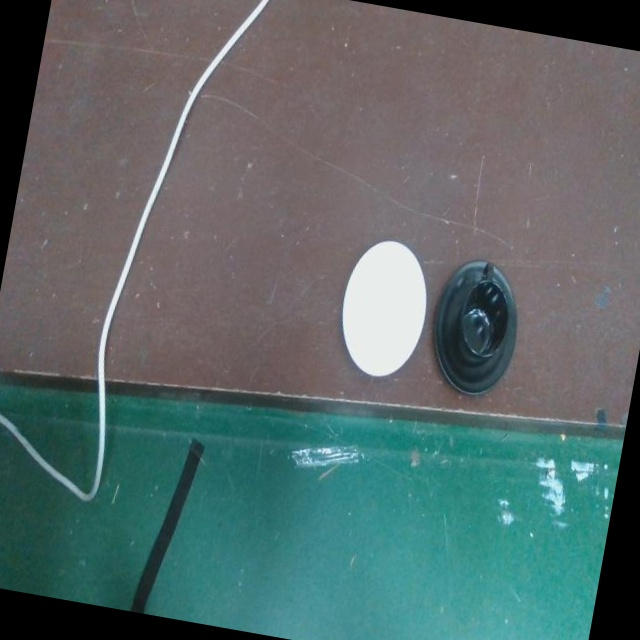black: (433, 255, 520, 399)
white: (340, 236, 429, 384)
